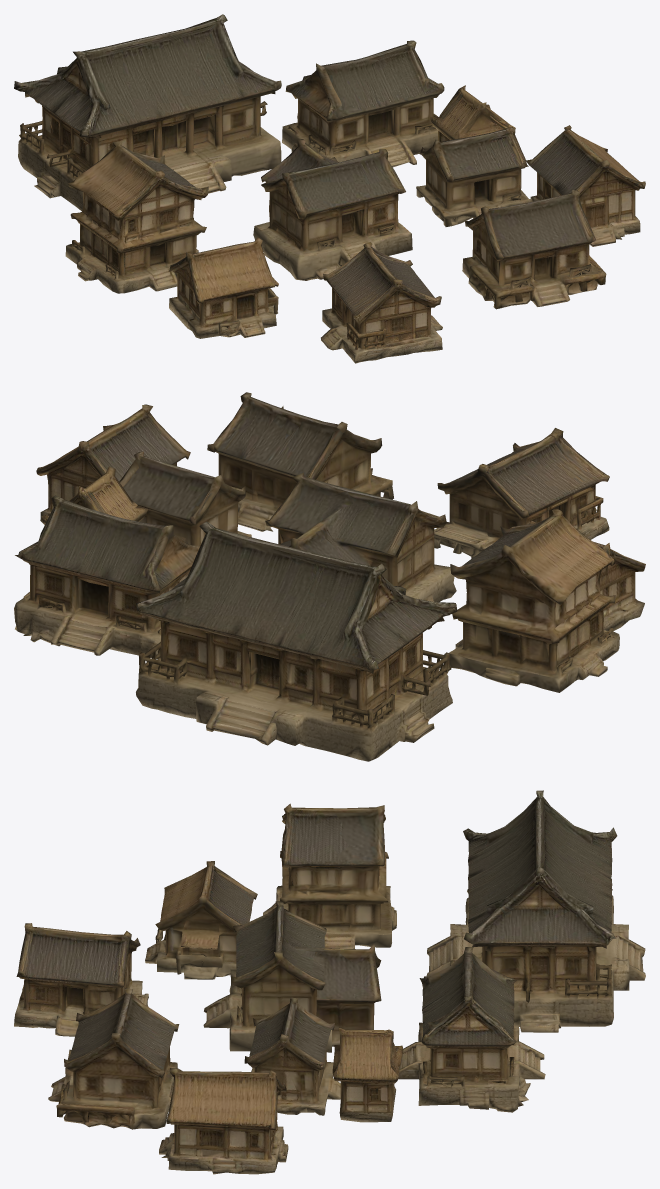
File: Classical Village (East Asian).fbx
3 views of the same model, one above another, from view 1: azimuth 30°, elevation 25°; view 2: azimuth 150°, elevation 25°; view 3: azimuth 270°, elevation 25° (orthographic). The views are drawn at different scales.
Visible parts, largest first — view 1: tripo_node_794d2785; view 2: tripo_node_794d2785; view 3: tripo_node_794d2785.
Part boxes in pixels (x1=…): tripo_node_794d2785: x1=14, y1=14, x2=645, y2=363; tripo_node_794d2785: x1=14, y1=392, x2=645, y2=761; tripo_node_794d2785: x1=14, y1=790, x2=645, y2=1174.
Size of the model in its own units: 0.9975 by 0.2977 by 1.
